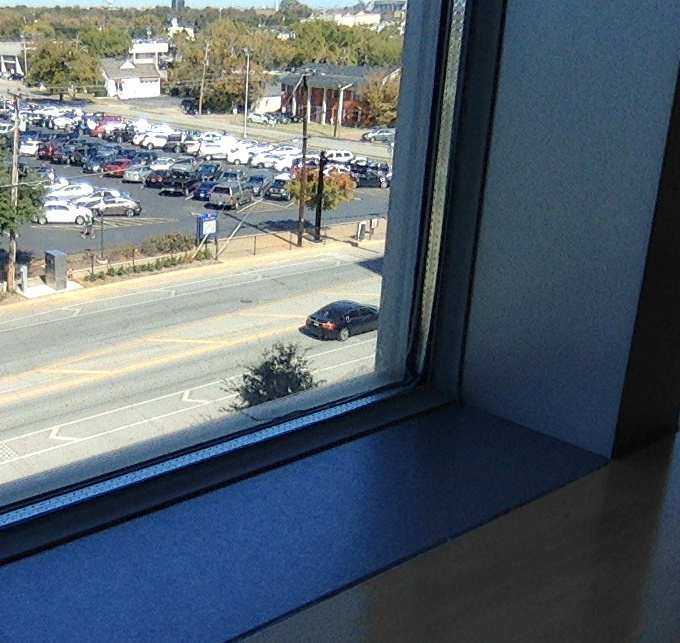car: (300, 300, 380, 343)
